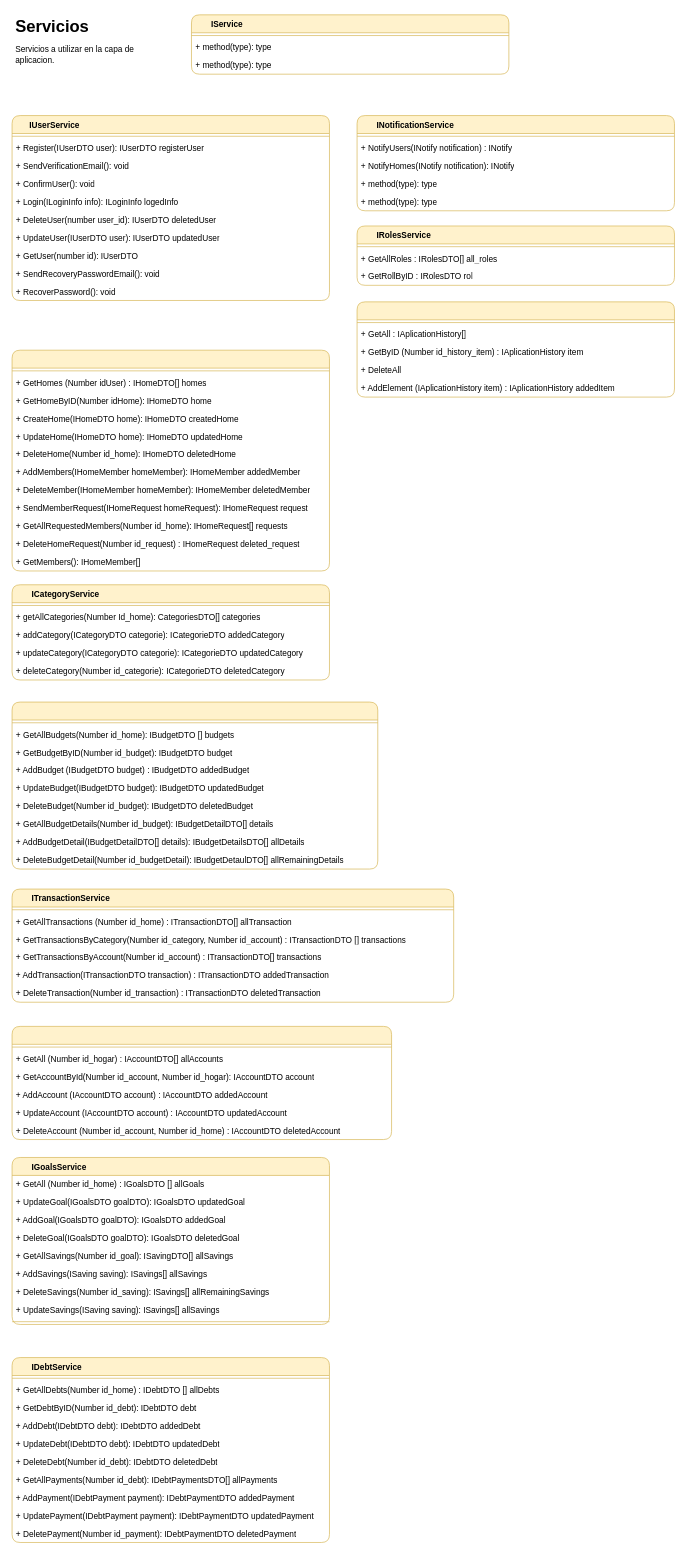
Some shapes in this 687 by 1556 pixel diagram are drawn without their labels. Each missing label, with the box of its shape:
IAccountService: (11, 1026, 392, 1140)
IBudgetService: (11, 701, 378, 869)
IHistoryService: (356, 301, 674, 397)
IHomeService: (11, 349, 329, 571)
